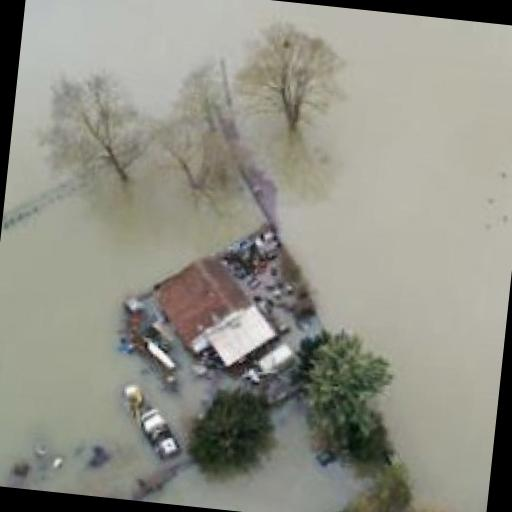flood: (0, 0, 512, 512), (142, 400, 361, 512)
house: (146, 246, 286, 370)
